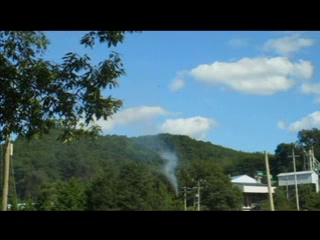smoke: (148, 140, 182, 199)
